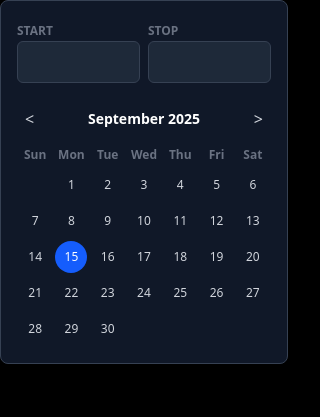
Scenario: DatePicker.vue › User Interactions › navigates to the previous month on button click
Click the button with test id "prev-month-btn" at (30, 119), box [17,99,42,139]
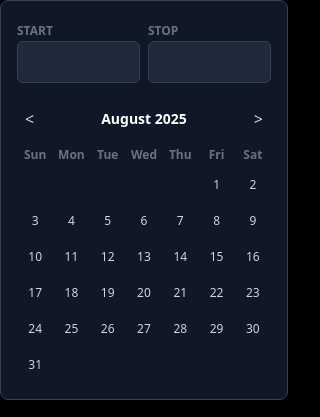
Now the heading with test id "month-year-header" reads "August 2025", box [101,109,187,128]
